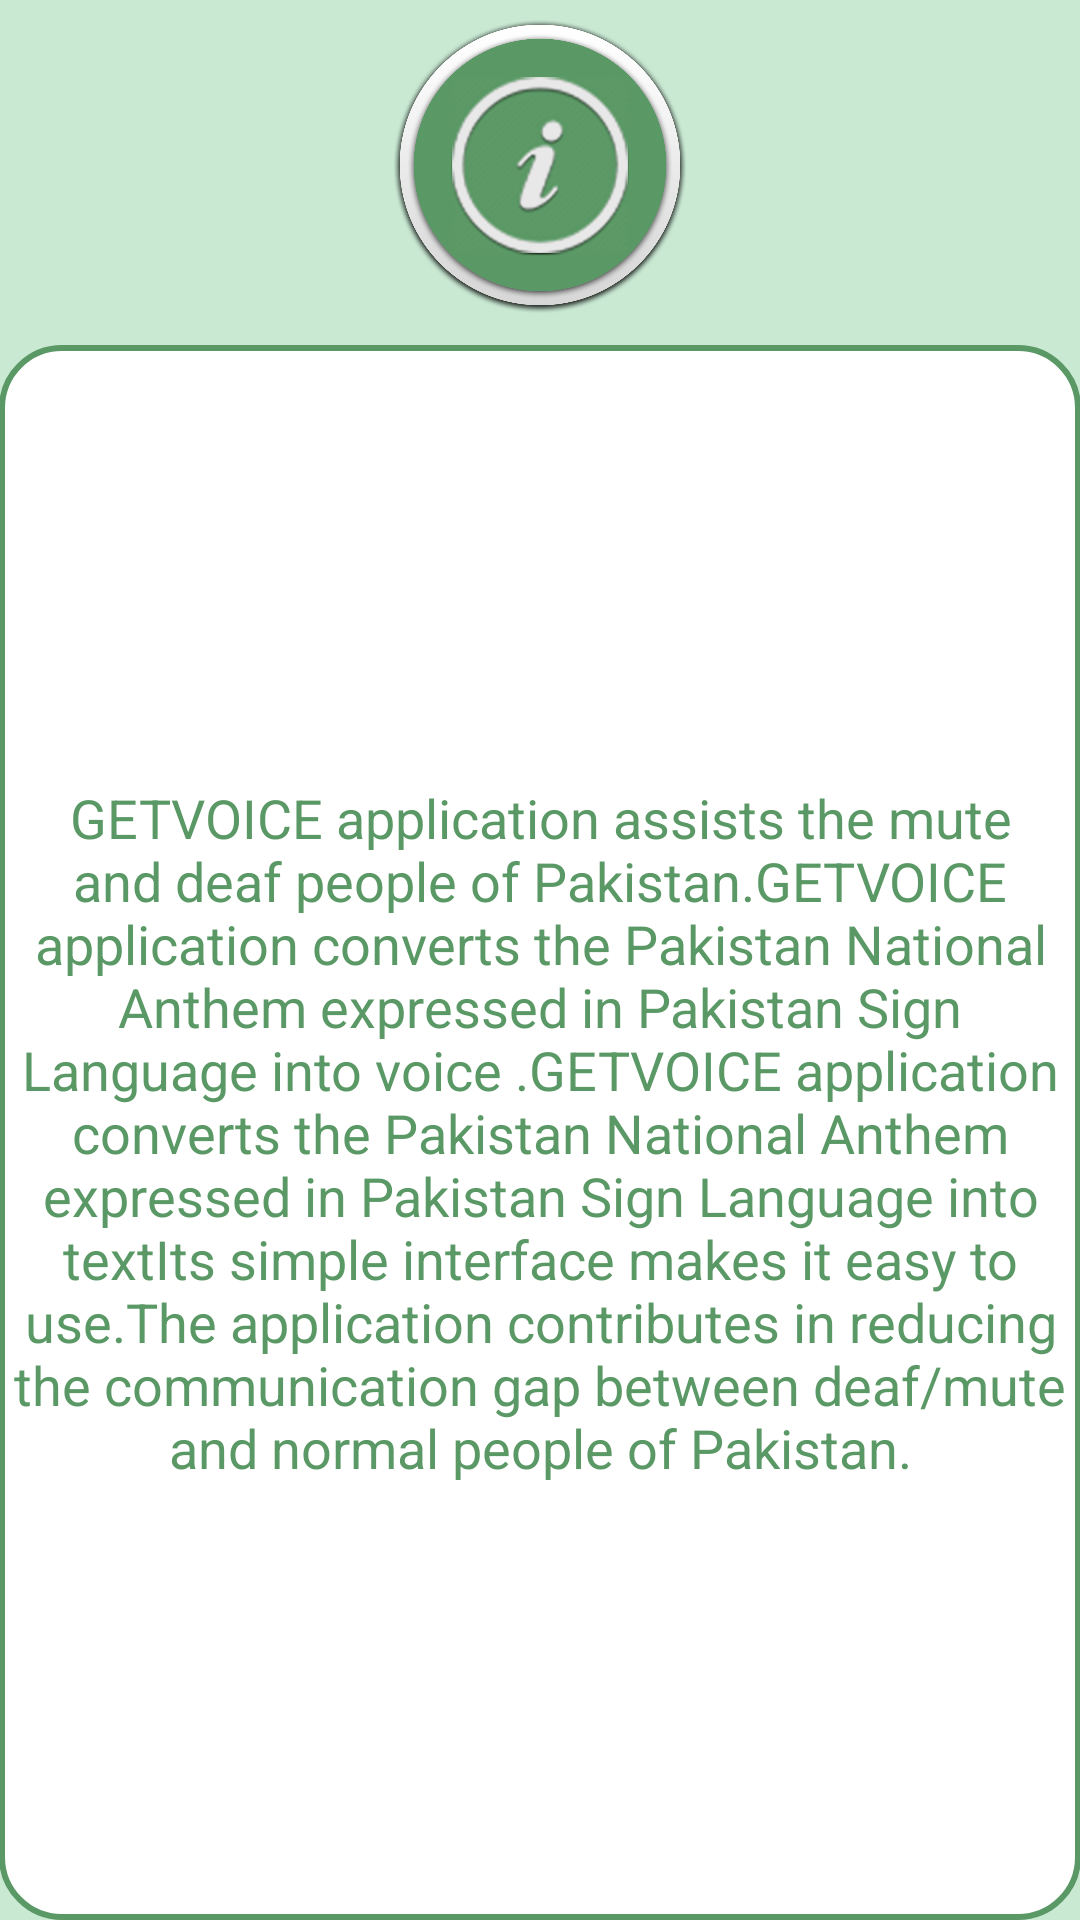

Where to tap for icons on this 1080px x 1920px app screen, as point (x, y):
about app: point (540, 166)
